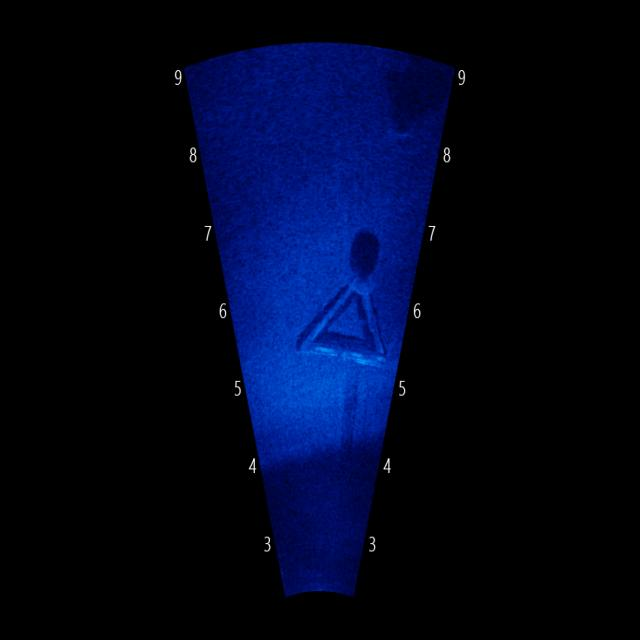triangle: (283, 253, 394, 380)
